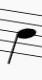note: (4, 5, 39, 67)
